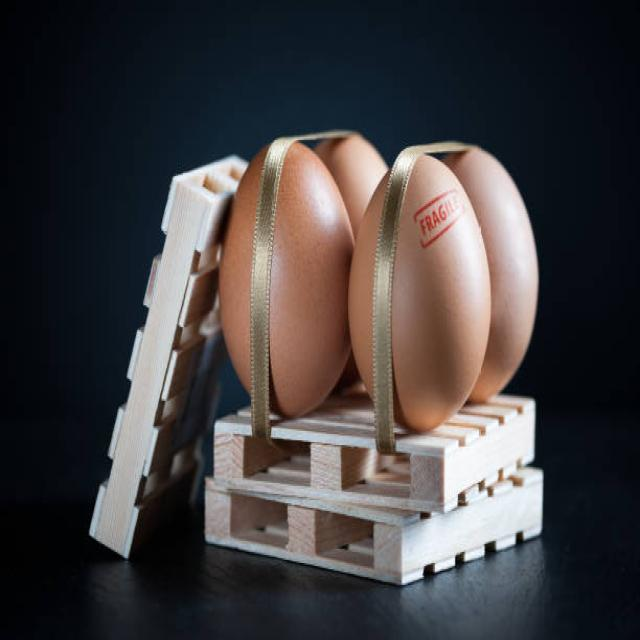Wooden-Pallets: (80, 149, 241, 568), (196, 463, 549, 598), (208, 393, 540, 522)
